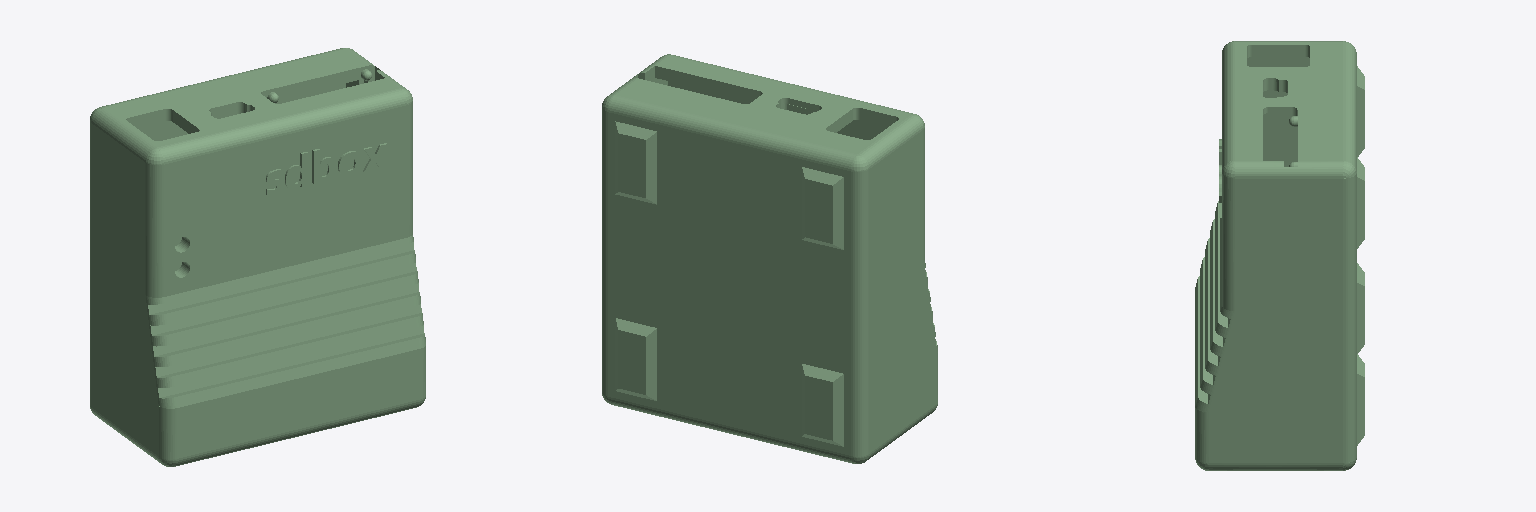
The model's file is sdbox_case_only.obj.
3 renders of one model, left to right at view 1: azimuth 30°, elevation 25°; view 2: azimuth 150°, elevation 25°; view 3: azimuth 270°, elevation 25°, orthographic.
Parts seen in each view (by area): view 1: sdbox\case_top\Solid, sdbox\case_bottom\Solid; view 2: sdbox\case_bottom\Solid, sdbox\case_top\Solid; view 3: sdbox\case_bottom\Solid, sdbox\case_top\Solid.
Boxes of the visible parts, x1,y1,x2,y2 form: sdbox\case_top\Solid: [126, 74, 425, 466]; sdbox\case_bottom\Solid: [90, 48, 386, 438]; sdbox\case_bottom\Solid: [602, 69, 903, 463]; sdbox\case_top\Solid: [644, 54, 937, 435]; sdbox\case_bottom\Solid: [1263, 41, 1364, 470]; sdbox\case_top\Solid: [1195, 41, 1273, 470].
Size of the model in its own units: 57 by 63.3 by 31.5.